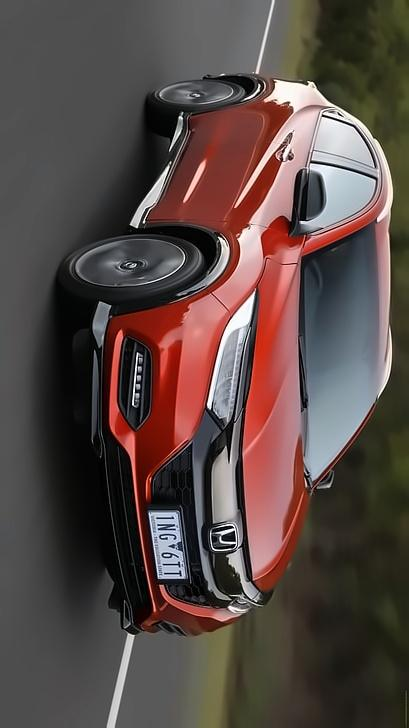Car hood: (236, 246, 322, 616)
Driver-s door - -F-R-: (106, 149, 395, 248)
Fender - -F-R-: (115, 211, 304, 312)
Front bumper: (79, 290, 246, 644)
Headlight - -L-: (219, 595, 269, 618)
Headlight - -R-: (205, 281, 255, 431)
Passenger-s door - -R-R-: (167, 103, 394, 179)
Side bumper - -R-: (126, 102, 206, 243)
Side mirror - -R-: (287, 158, 326, 238)
